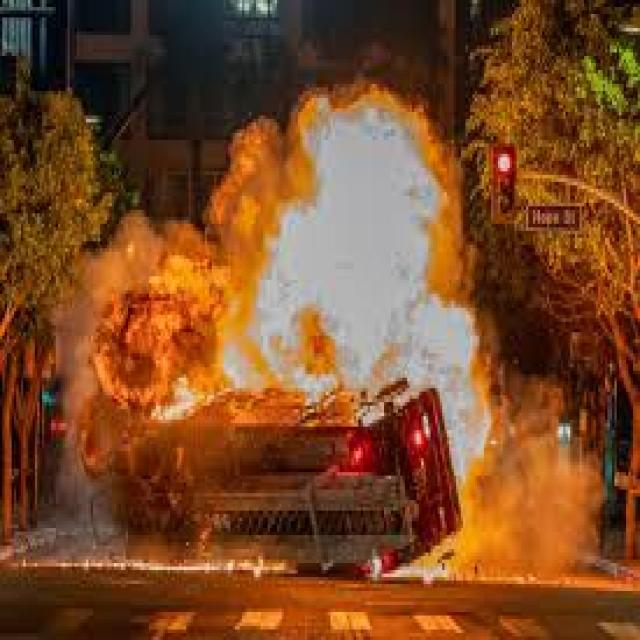fire: (178, 87, 500, 420), (401, 418, 618, 576), (76, 258, 206, 454)
